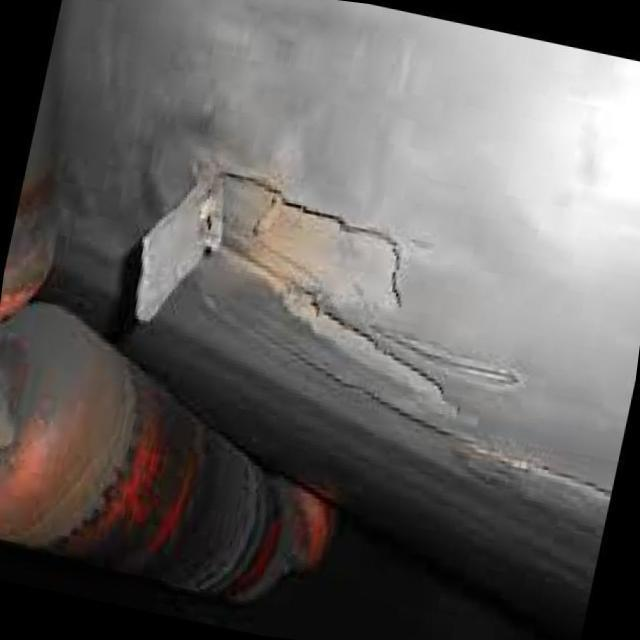Tear: (127, 163, 528, 396)
